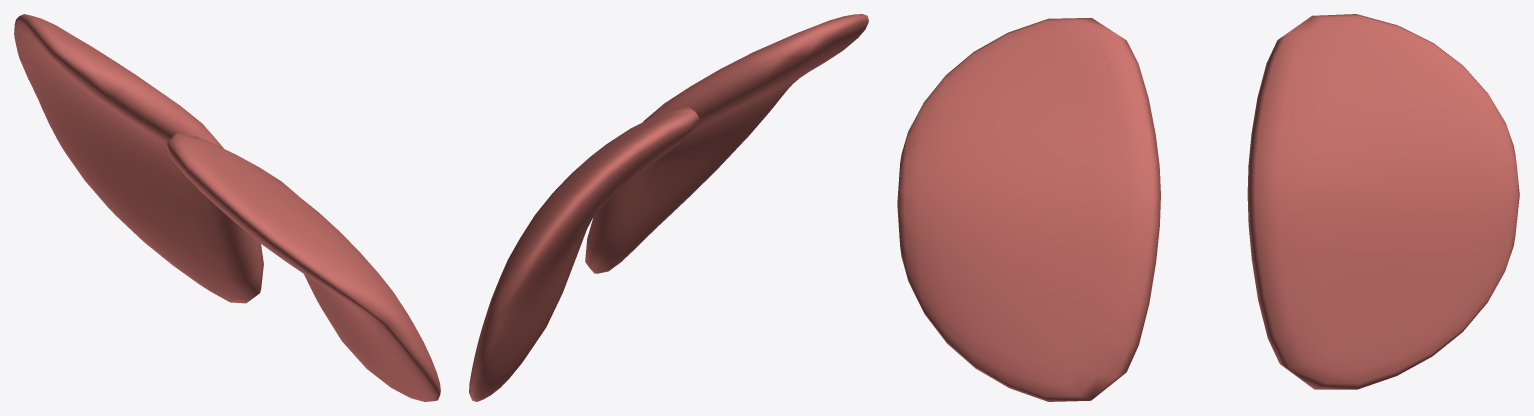
3 views of the same model, side by side, from view 1: azimuth 30°, elevation 25°; view 2: azimuth 150°, elevation 25°; view 3: azimuth 270°, elevation 25° (orthographic). The views are drawn at different scales.
Visible parts, largest first — view 1: 左侧臀肌间囊; view 2: 左侧臀肌间囊; view 3: 左侧臀肌间囊.
Boxes of the visible parts, x1,y1,x2,y2 form: 左侧臀肌间囊: (14, 14, 440, 401); 左侧臀肌间囊: (469, 14, 868, 401); 左侧臀肌间囊: (897, 14, 1519, 401).
Bounding box in the file's own units: 0.0189 × 0.0236 × 0.0456.
